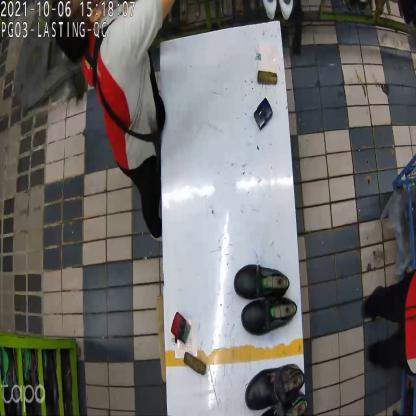shoes: (232, 265, 296, 334), (244, 360, 305, 415)
stamp: (170, 313, 193, 344), (254, 97, 274, 130)
